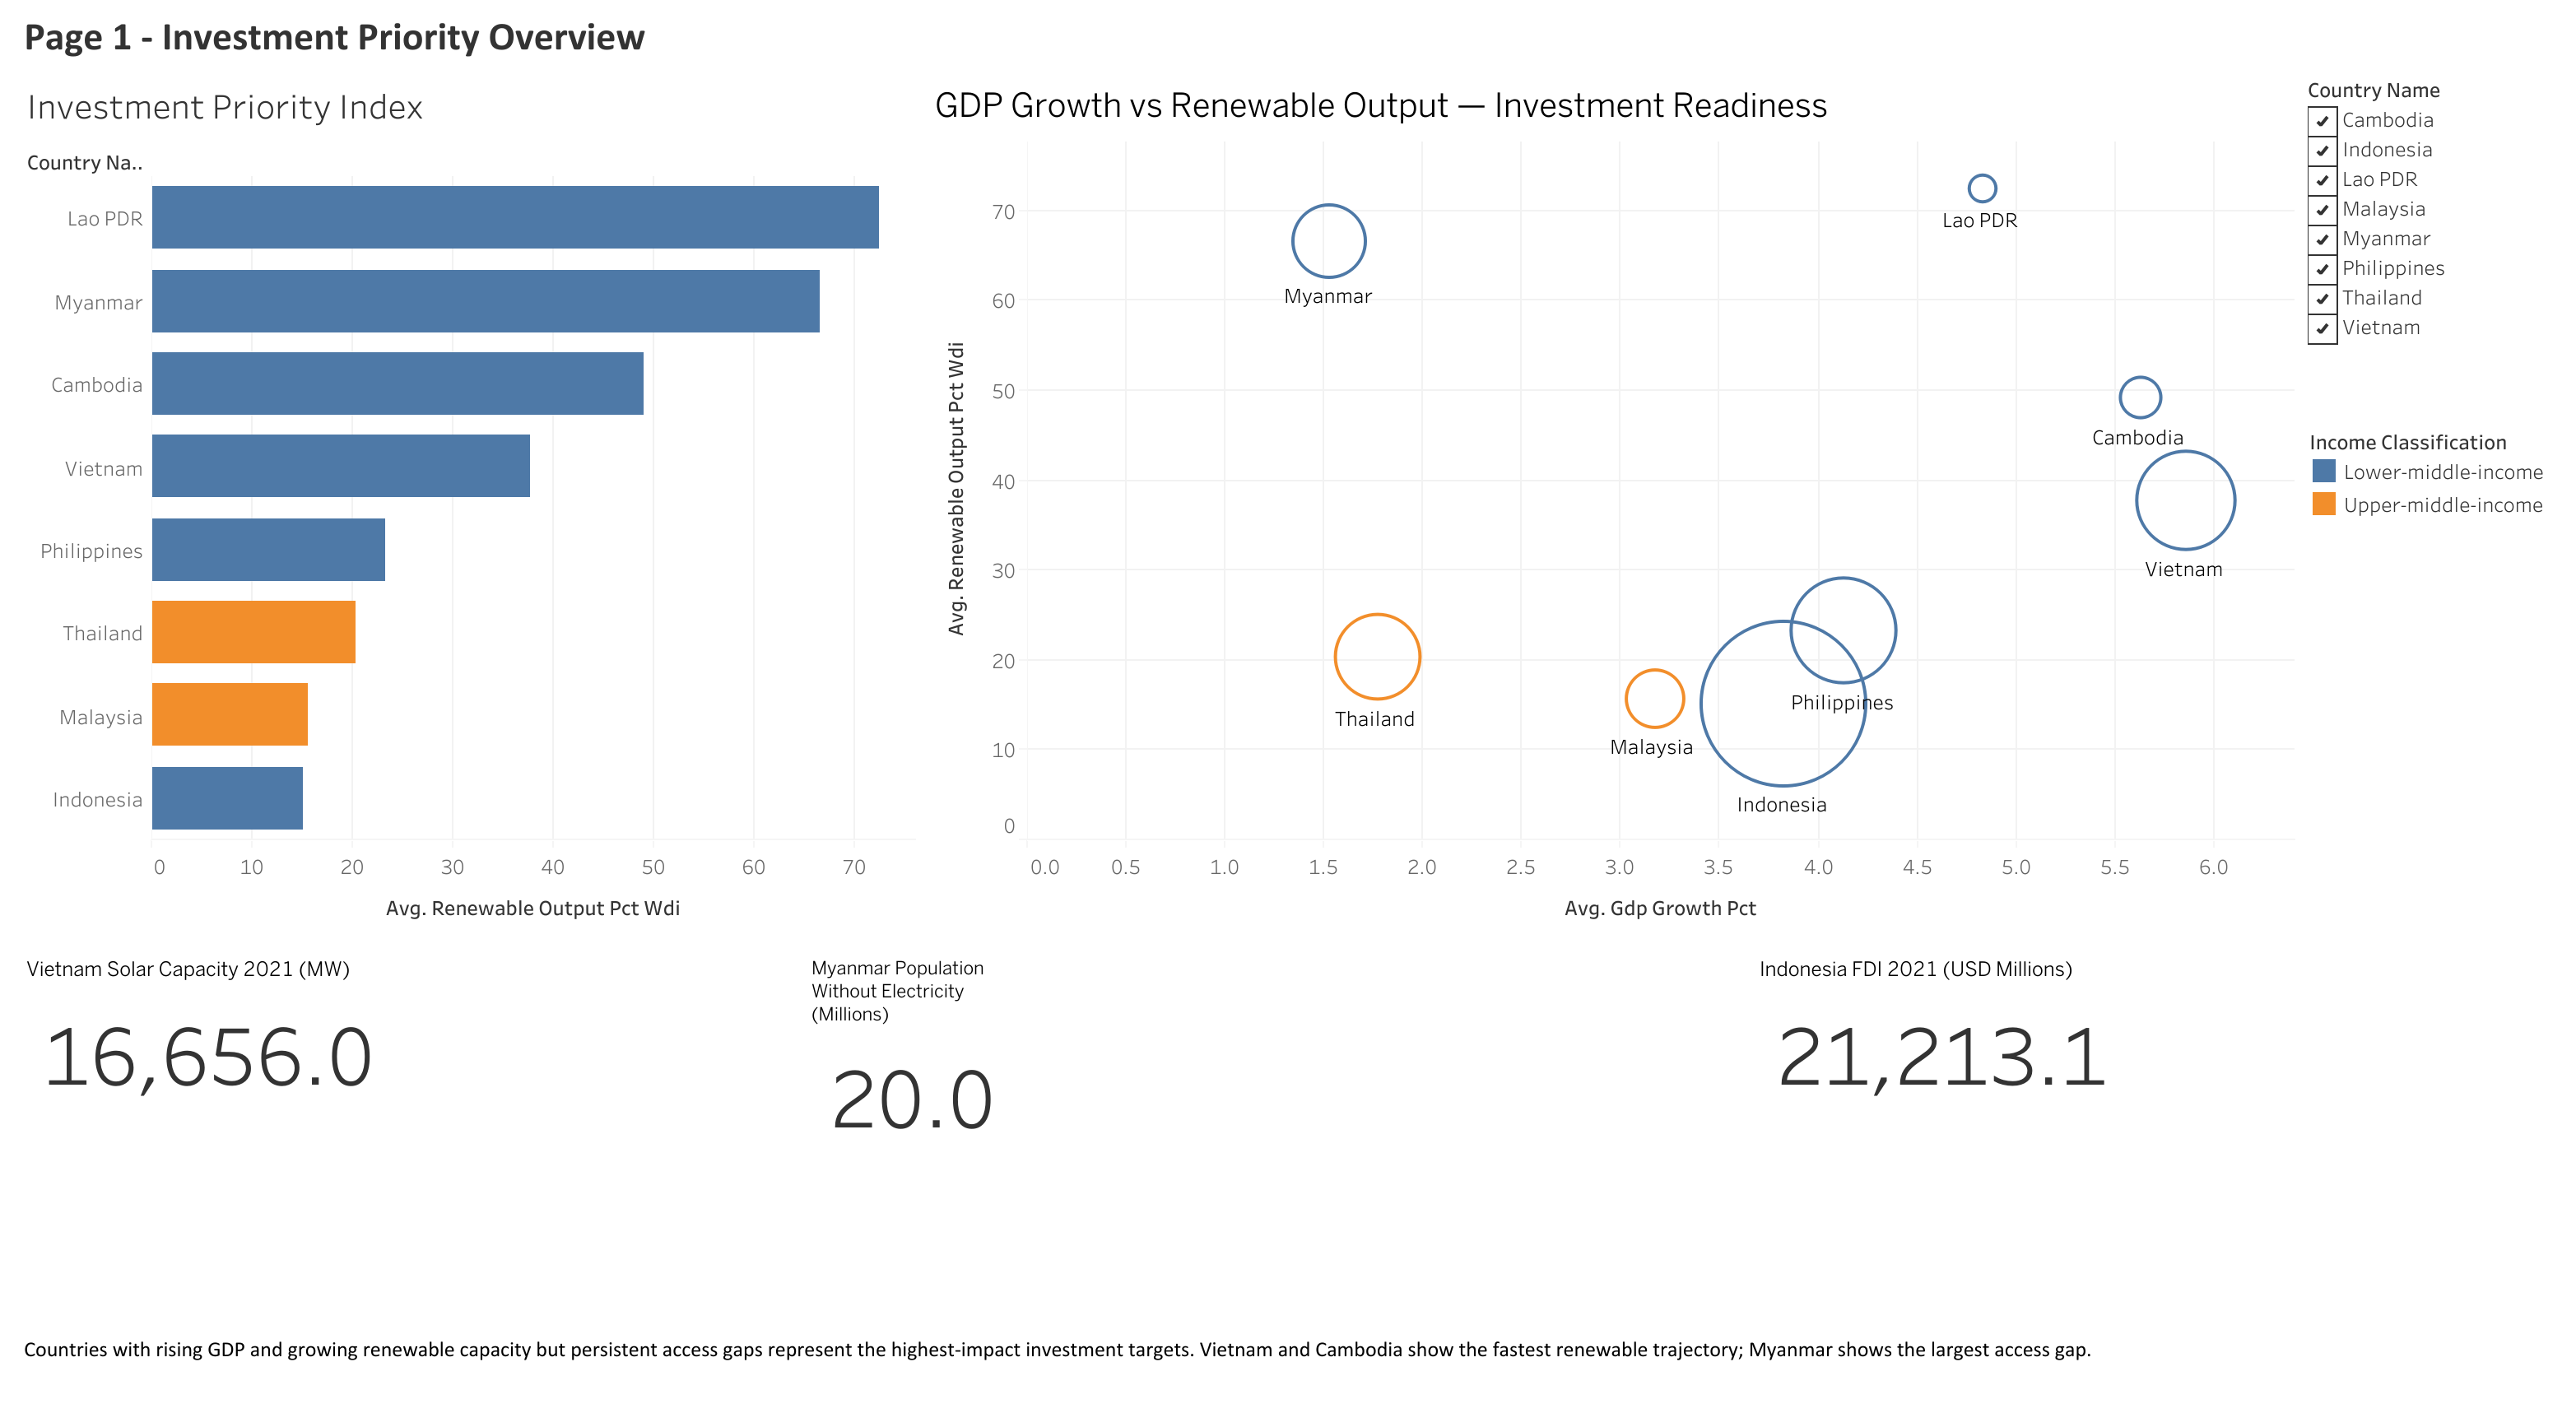

What the dashboard file says about the page in this screenshot:
{"tool":"tableau","page":{"name":"Page 1 - Investment Priority Overview","canvas":[1566,868],"ordinal":0},"visuals":[{"type":"title","box":[8,8,1550,52]},{"type":"worksheet","title":"Investment Priority Index","mark":"Automatic","rows":["country_name"],"cols":["renewable_output_pct_wdi"],"box":[8,60,551.9,518]},{"type":"worksheet","title":"Scatter Plot","mark":"Automatic","rows":["renewable_output_pct_wdi"],"cols":["gdp_growth_pct"],"box":[559.9,60,838.1,518]},{"type":"filter","title":"Investment Priority Index","param":"[federated.1l65u290jg5pa210ox32x1x9fhdh].[none:country_name:nk]","box":[1398,60,160,283]},{"type":"legend","title":"Investment Priority Index","param":"[federated.1l65u290jg5pa210ox32x1x9fhdh].[none:income_classification:nk]","box":[1398,343,160,146]},{"type":"worksheet","title":"KPI Vietnam","mark":"Text","box":[8,578,476.9,199.3]},{"type":"worksheet","title":"KPI Myanmar","mark":"Text","box":[484.9,578,576,199.3]},{"type":"worksheet","title":"KPI Indonesia","mark":"Text","box":[1061,578,497,199.3]},{"type":"text","box":[8,777.3,1550,82.7]}]}

Visuals, with their boxes in screenshot pixels (x1, y1, x2, y2), scaled from the page's 1566x868 canvas onto the 2576x1427 screenshot:
title: [13, 13, 2563, 99]
"Investment Priority Index" worksheet: [13, 99, 921, 951]
"Scatter Plot" worksheet: [921, 99, 2299, 951]
"Investment Priority Index" filter: [2299, 99, 2563, 564]
"Investment Priority Index" legend: [2299, 564, 2563, 804]
"KPI Vietnam" worksheet (Text marks): [13, 951, 797, 1278]
"KPI Myanmar" worksheet (Text marks): [797, 951, 1745, 1278]
"KPI Indonesia" worksheet (Text marks): [1746, 951, 2563, 1278]
text: [13, 1278, 2563, 1414]
